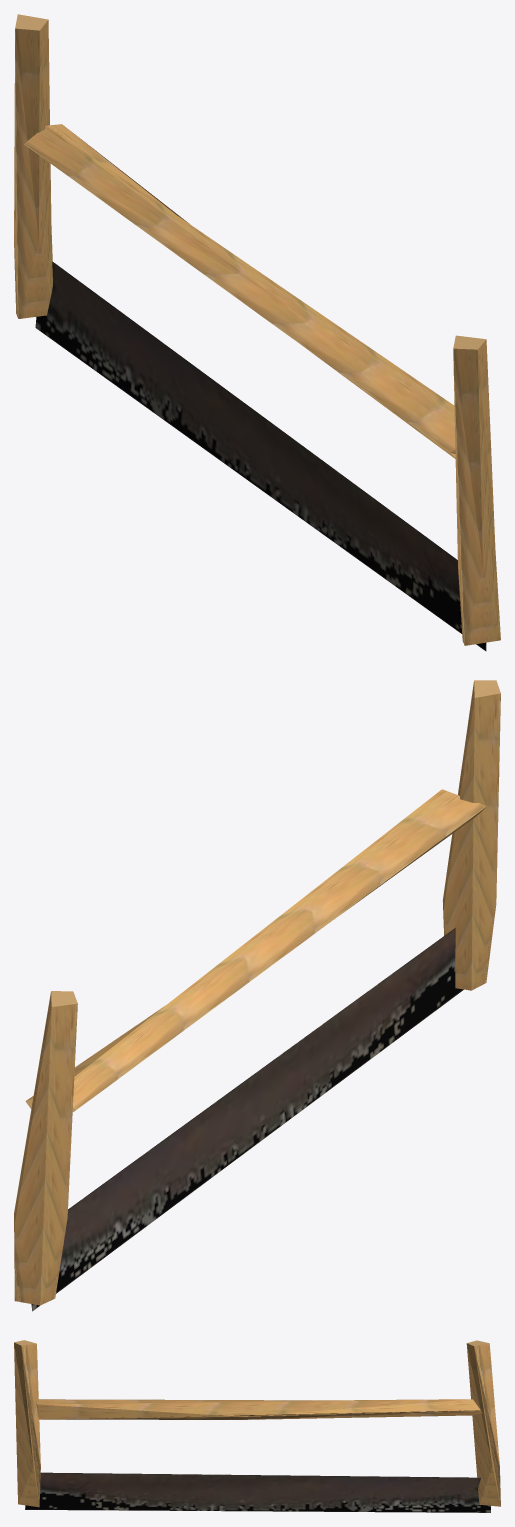
Rendered from saw.glb.
The picture shows the model from 3 angles, top to bottom: view 1: azimuth 30°, elevation 25°; view 2: azimuth 150°, elevation 25°; view 3: azimuth 270°, elevation 25°; orthographic projection. The views are drawn at different scales.
Visible parts, largest first — view 1: Cylinder, Plane; view 2: Cylinder, Plane; view 3: Plane, Cylinder.
Boxes of the visible parts, box(x1,y1,x2,y2) form: Cylinder: box(14, 14, 500, 645); Plane: box(35, 261, 486, 651); Cylinder: box(14, 680, 500, 1305); Plane: box(31, 928, 463, 1311); Plane: box(25, 1472, 490, 1512); Cylinder: box(14, 1340, 500, 1507).
Bounding box in the file's own units: 0.3226 × 1.94 × 5.14.
2 materials, 2 textured.
